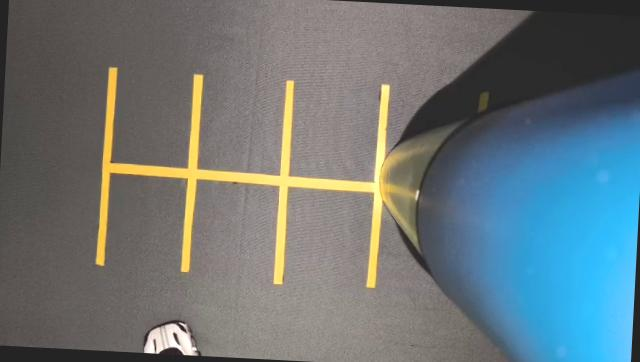toy_car: (127, 292, 218, 357)
